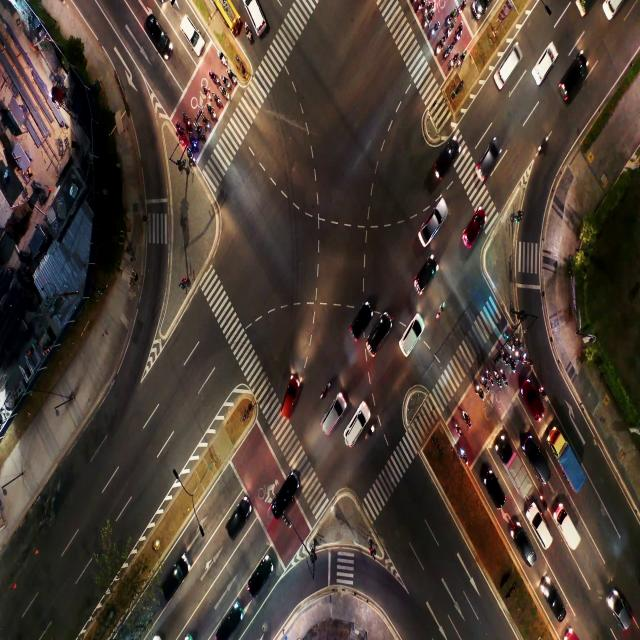bus: (225, 8, 235, 24)
car: (273, 484, 295, 516), (249, 568, 267, 597), (164, 575, 182, 600), (282, 392, 296, 422), (228, 510, 244, 534), (486, 479, 501, 502), (440, 148, 454, 172), (352, 310, 365, 335), (348, 417, 359, 445), (423, 219, 436, 242), (536, 449, 548, 472), (370, 331, 386, 348), (499, 58, 510, 81), (521, 539, 532, 561), (618, 601, 629, 622), (402, 336, 416, 352), (566, 74, 579, 91), (537, 59, 547, 81), (188, 28, 200, 46), (225, 618, 238, 634), (154, 32, 167, 48), (325, 412, 336, 430), (482, 156, 490, 179), (527, 395, 537, 413), (418, 270, 426, 292), (467, 226, 477, 243), (551, 600, 562, 614), (252, 14, 263, 26), (536, 522, 546, 534)
motorcycle: (437, 296, 448, 319), (321, 382, 330, 398), (368, 422, 376, 438), (538, 136, 548, 148), (540, 385, 548, 398), (454, 421, 461, 435), (202, 84, 208, 99), (475, 383, 481, 398), (516, 332, 522, 347), (464, 413, 470, 426), (455, 28, 461, 41), (432, 24, 438, 37), (488, 370, 493, 385), (184, 114, 190, 126), (524, 351, 530, 363), (203, 116, 208, 130), (462, 448, 467, 462), (510, 357, 515, 370), (178, 127, 184, 137), (211, 72, 216, 84), (220, 55, 225, 67), (502, 350, 507, 362), (507, 337, 512, 349), (483, 374, 487, 388), (423, 20, 430, 28), (198, 126, 203, 137), (416, 2, 421, 13), (436, 45, 442, 54), (516, 348, 520, 361), (245, 28, 250, 38), (211, 110, 215, 122), (221, 90, 227, 98), (447, 27, 453, 35), (447, 16, 453, 24), (502, 366, 505, 381), (446, 49, 451, 58), (190, 138, 195, 146), (459, 57, 464, 65), (450, 56, 455, 64), (425, 5, 430, 13), (187, 153, 193, 159), (222, 75, 226, 84), (215, 96, 218, 106), (496, 371, 499, 381), (230, 74, 233, 83), (460, 6, 463, 12)
truck: (563, 515, 574, 537), (566, 453, 576, 477), (513, 457, 522, 483)
